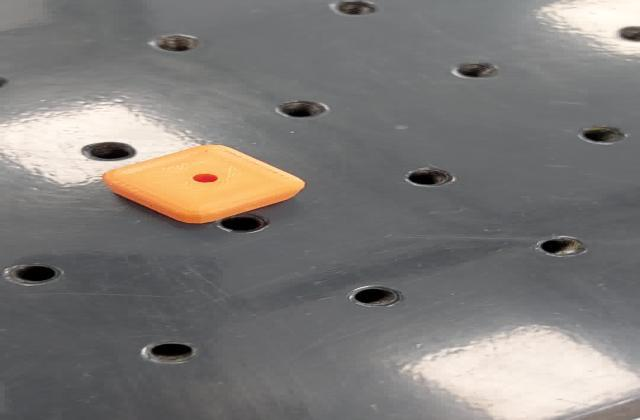cube: (98, 144, 314, 227)
